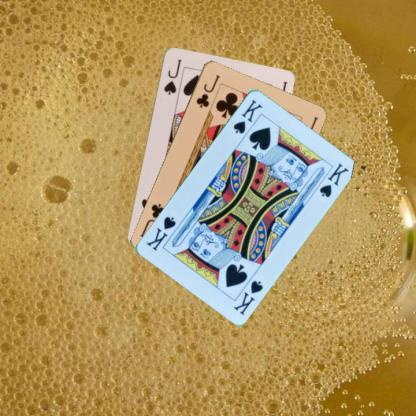Jc: (193, 71, 221, 109)
Js: (161, 56, 183, 96)
Ks: (231, 277, 264, 316), (231, 96, 264, 134)
